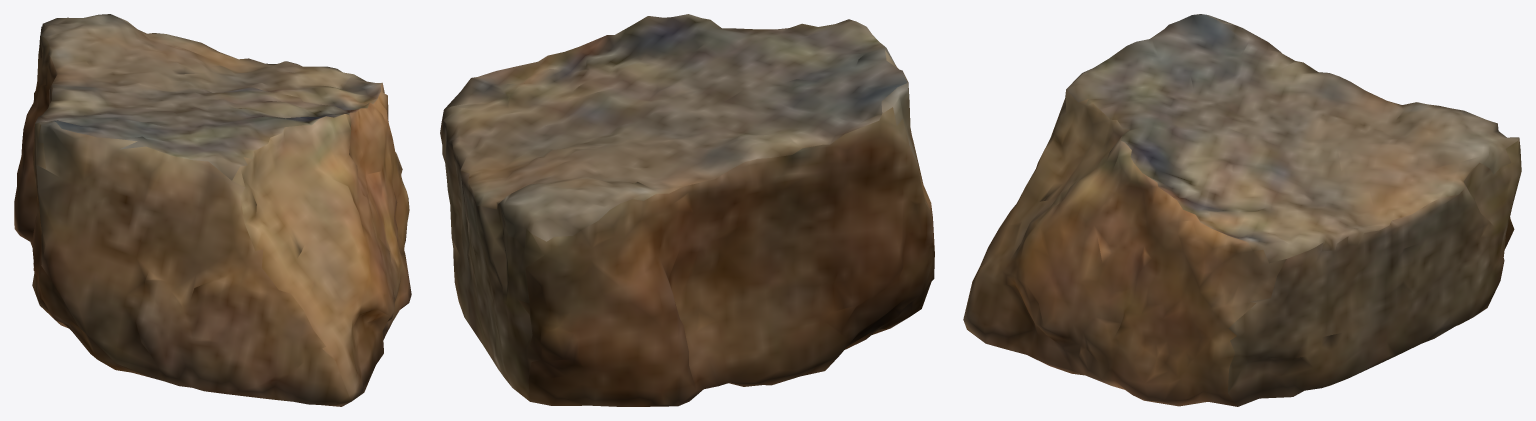
The model's file is ph_boulder_2.glb.
3 views of the same model, side by side, from view 1: azimuth 30°, elevation 25°; view 2: azimuth 150°, elevation 25°; view 3: azimuth 270°, elevation 25° (orthographic). The views are drawn at different scales.
Visible parts, largest first — view 1: ph_boulder_2_lod1; view 2: ph_boulder_2_lod1; view 3: ph_boulder_2_lod1.
Boxes of the visible parts, bbox=[...] form: ph_boulder_2_lod1: bbox=[14, 14, 411, 406]; ph_boulder_2_lod1: bbox=[440, 14, 934, 406]; ph_boulder_2_lod1: bbox=[963, 14, 1521, 406].
Size of the model in its own units: 2.41 by 1.47 by 3.07.
1 material, 1 textured.
